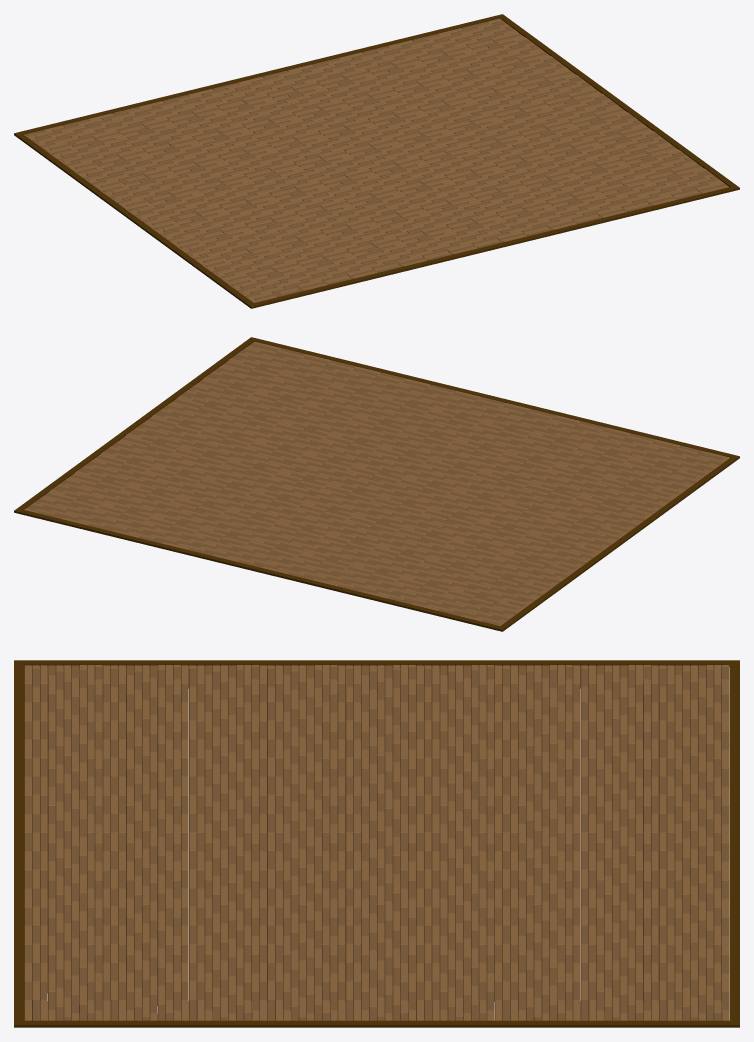
Rendered from wood_floor_finished.fbx.
The picture shows the model from 3 angles, top to bottom: view 1: azimuth 30°, elevation 25°; view 2: azimuth 150°, elevation 25°; view 3: azimuth 270°, elevation 25°; orthographic projection. The views are drawn at different scales.
Visible parts, largest first — view 1: polySurface429; view 2: polySurface429; view 3: polySurface429.
Boxes of the visible parts, x1,y1,x2,y2 form: polySurface429: (14,14,739,308); polySurface429: (14,337,739,631); polySurface429: (14,660,739,1027).
Size of the model in its own units: 36.13 by 0.1335 by 30.39.
